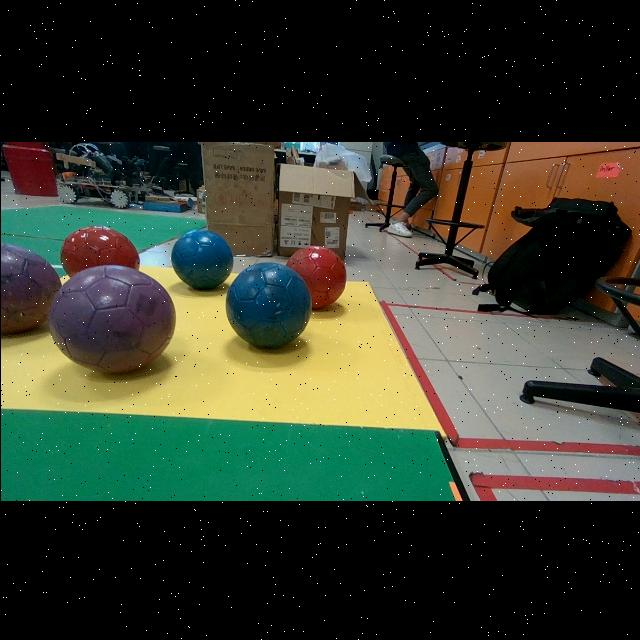B: (225, 262, 311, 346), (172, 227, 230, 288)
P: (47, 263, 175, 371), (0, 241, 60, 332)
R: (59, 225, 139, 275), (286, 244, 345, 307)
